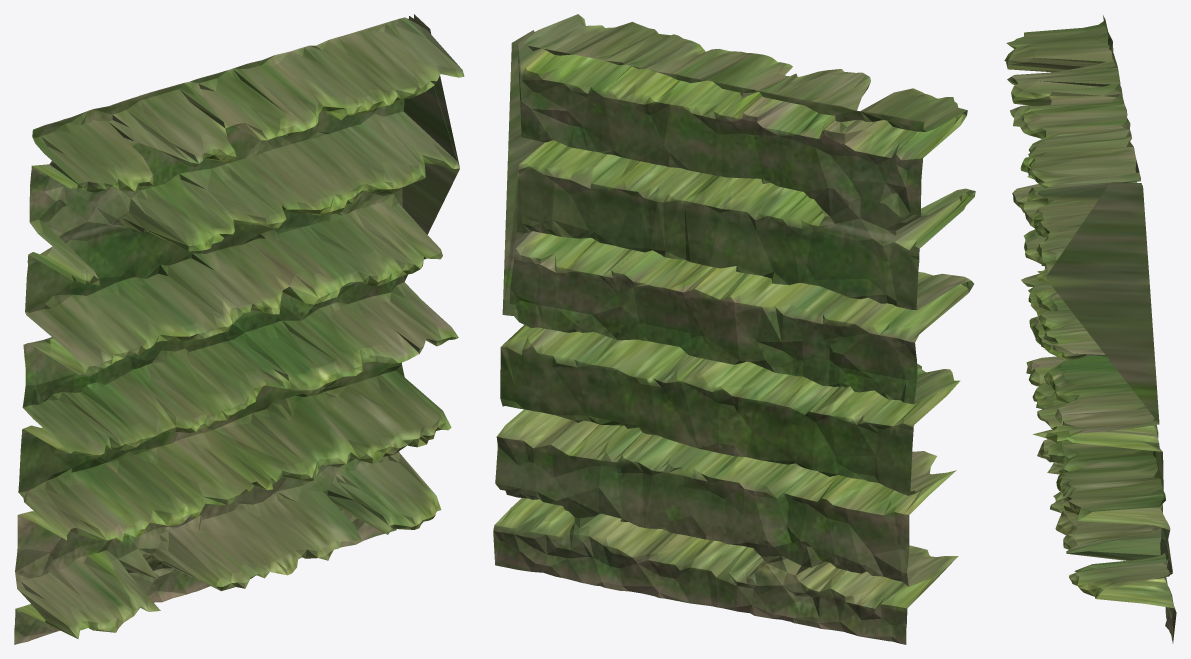
Rendered from map_180_100.obj.
The picture shows the model from 3 angles, left to right: view 1: azimuth 30°, elevation 25°; view 2: azimuth 150°, elevation 25°; view 3: azimuth 270°, elevation 25°; orthographic projection. The views are drawn at different scales.
Parts seen in each view (by area): view 1: grp1; view 2: grp1; view 3: grp1.
Part boxes in pixels (x1,y1,x2,y2): grp1: [14, 14, 464, 644]; grp1: [493, 14, 975, 644]; grp1: [1004, 15, 1176, 643].
Bounding box in the file's own units: 8 × 10 × 3.39.
1 material, 1 textured.
